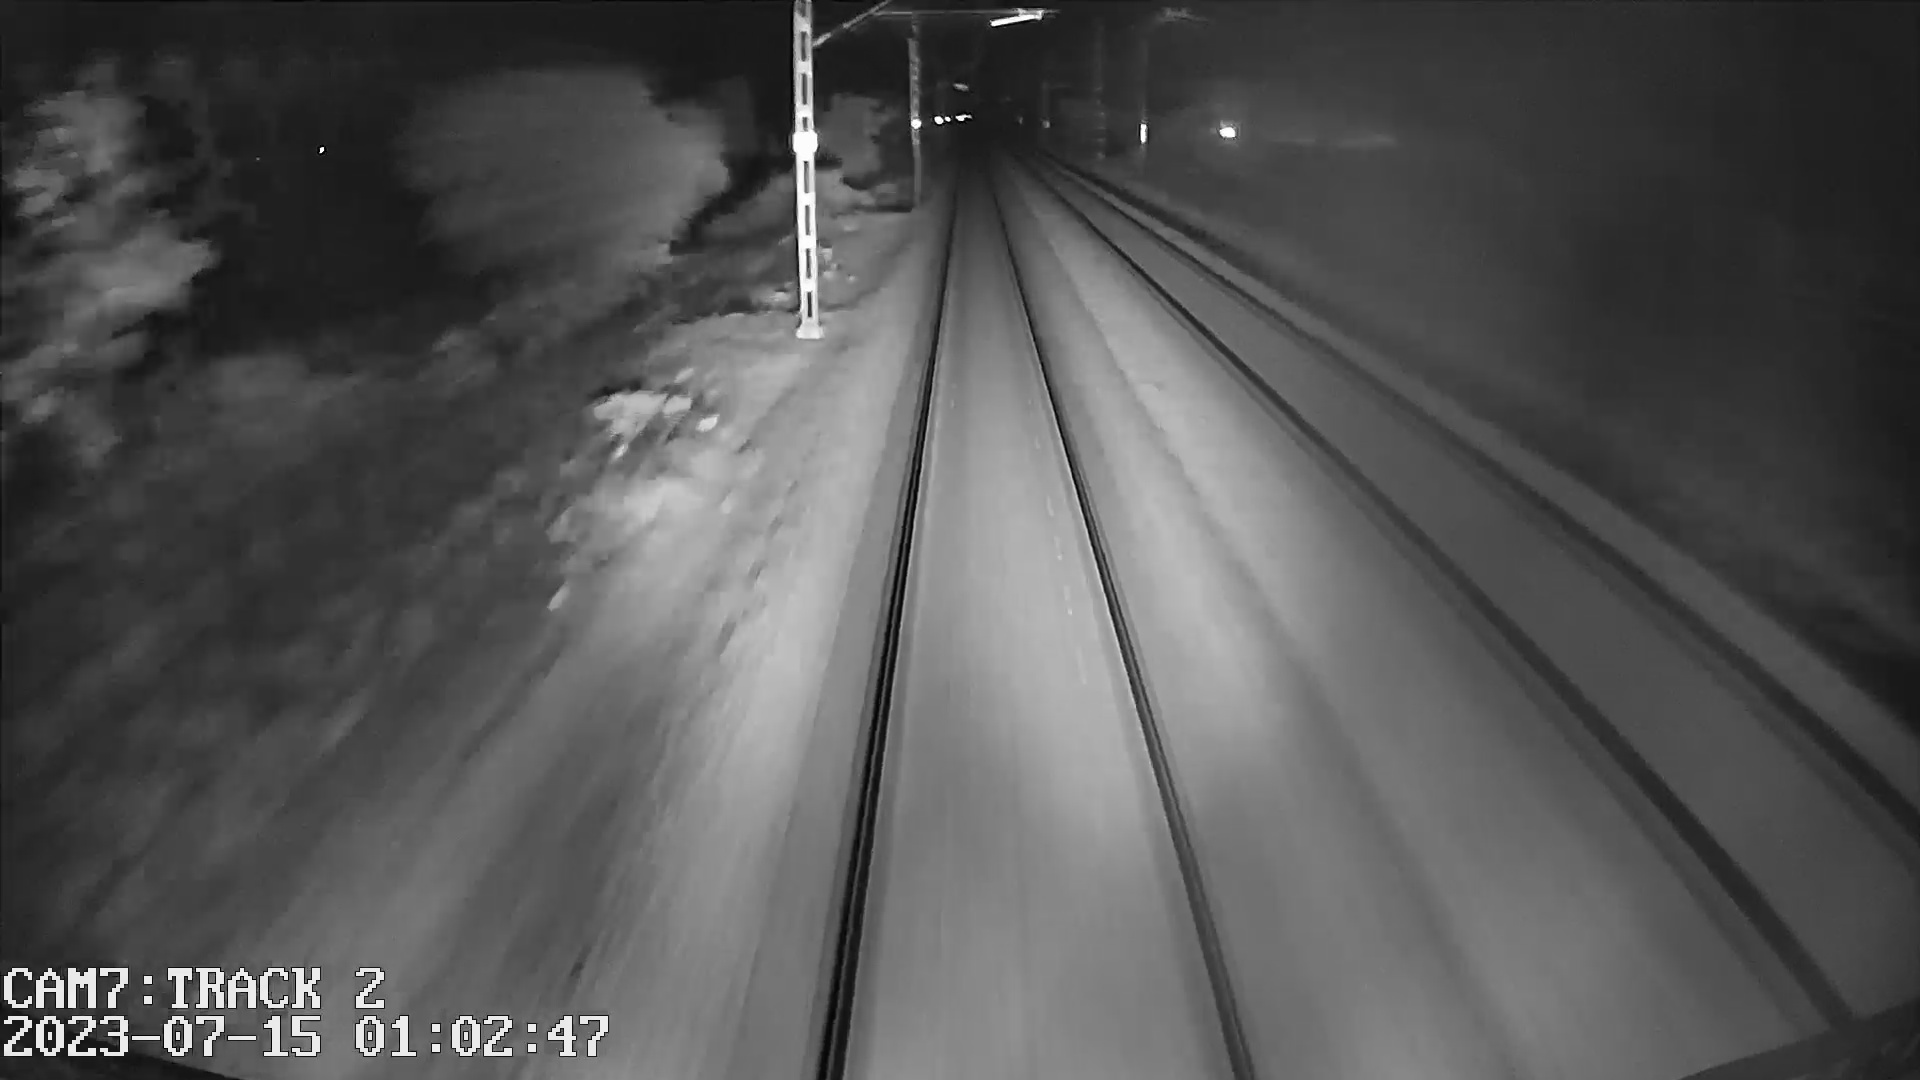track1: (837, 187, 1242, 1046)
track2: (1067, 200, 1904, 982)
